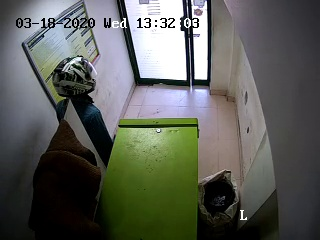helmet: (50, 53, 103, 103)
